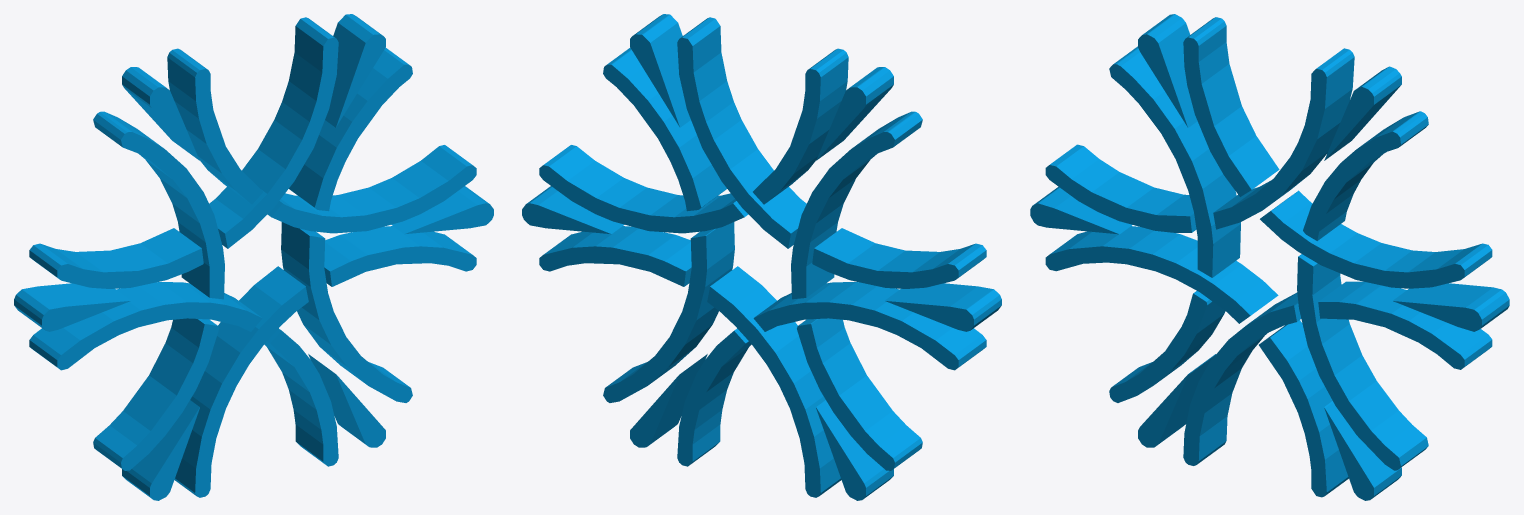
Rendered from wick-participation.glb.
The picture shows the model from 3 angles, left to right: view 1: azimuth 30°, elevation 25°; view 2: azimuth 150°, elevation 25°; view 3: azimuth 330°, elevation 25°; orthographic projection.
Size of the model in its own units: 0.1191 by 0.1077 by 0.0127.
